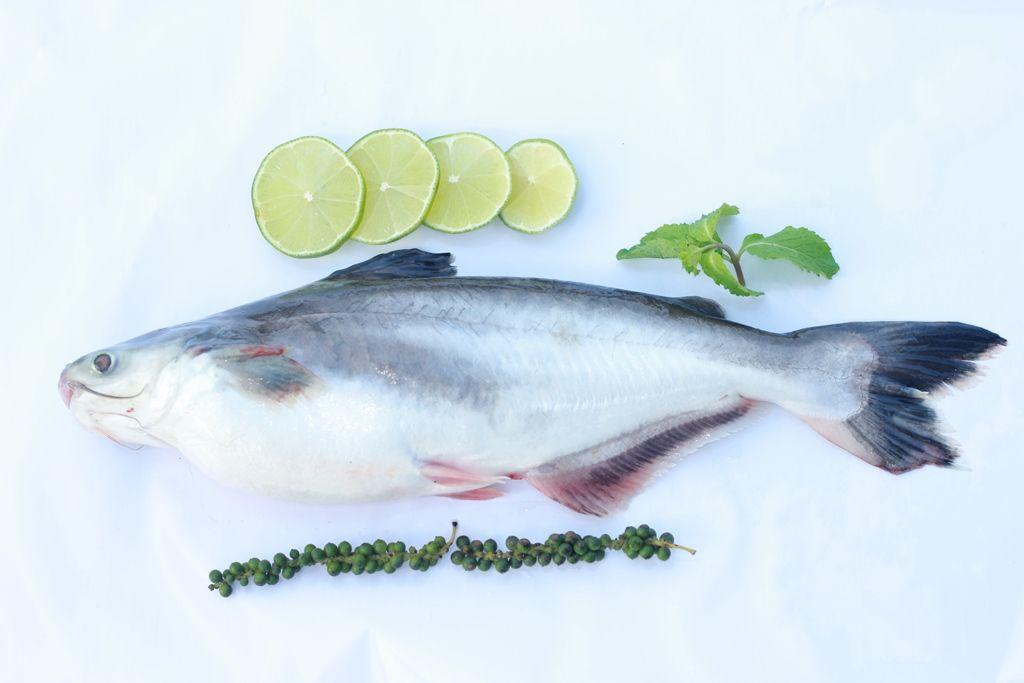Pangasius: (51, 243, 1002, 527)
